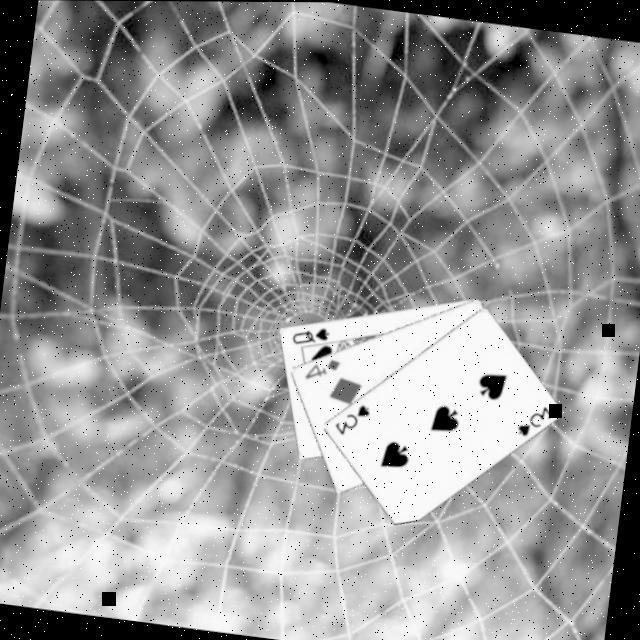3S: (509, 399, 554, 442), (328, 398, 371, 441)
4D: (298, 352, 342, 386)
QS: (286, 320, 330, 351)
